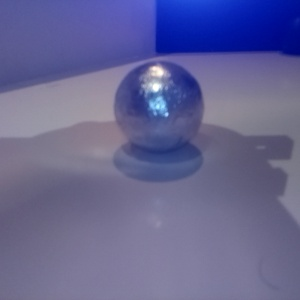alive_ball: (101, 32, 155, 90)
dead_ball: (157, 29, 206, 82)
